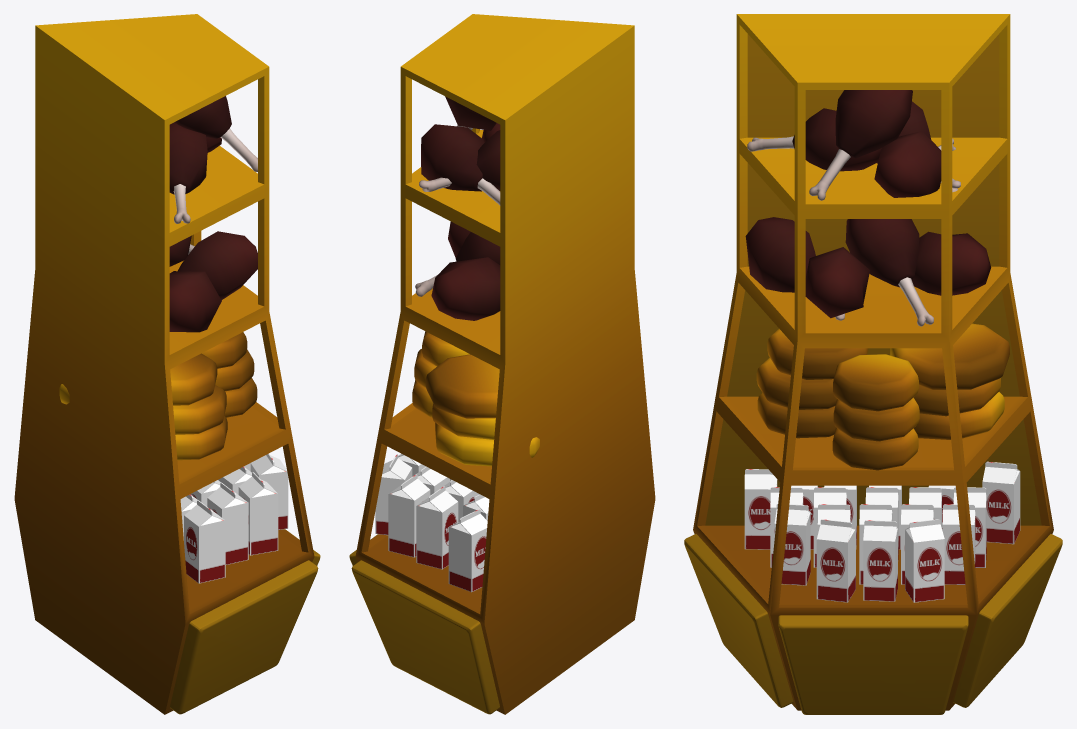
The model's file is Shelf_Corner_Dairy.fbx.
The picture shows the model from 3 angles, left to right: view 1: azimuth 30°, elevation 25°; view 2: azimuth 150°, elevation 25°; view 3: azimuth 270°, elevation 25°; orthographic projection. The views are drawn at different scales.
Visible parts, largest first — view 1: Shelf_Corner_Dairy; view 2: Shelf_Corner_Dairy; view 3: Shelf_Corner_Dairy.
Boxes of the visible parts, <box> form: Shelf_Corner_Dairy: <box>14,14,320,714</box>; Shelf_Corner_Dairy: <box>349,14,655,714</box>; Shelf_Corner_Dairy: <box>684,14,1062,714</box>.
Bounding box in the file's own units: 5.45 × 17.22 × 9.41.
